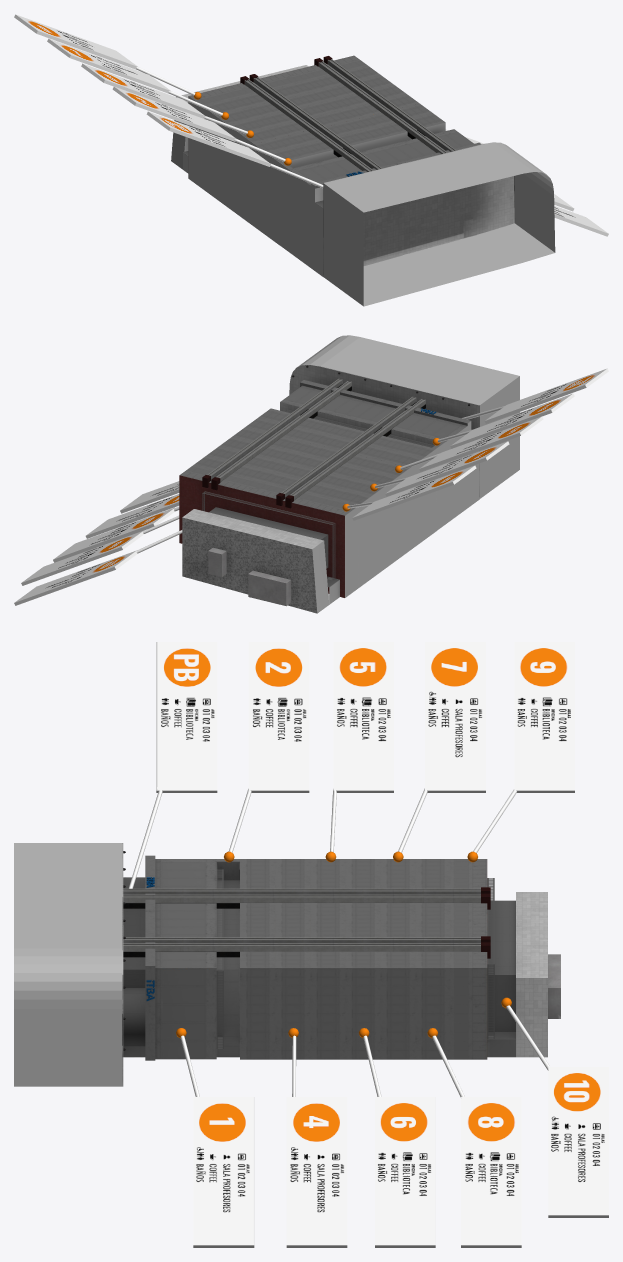
3 renders of one model, top to bottom at view 1: azimuth 30°, elevation 25°; view 2: azimuth 150°, elevation 25°; view 3: azimuth 270°, elevation 25°, orthographic. The views are drawn at different scales.
Parts seen in each view (by area): view 1: Edificio_low_Edificio_0, Sphere002, Sphere004, Sphere010, Sphere008, Sphere006, Sphere011; view 2: Edificio_low_Edificio_0, Sphere006, Sphere001, Sphere004, Sphere008, Sphere003, Sphere010, Sphere002, Sphere005, Sphere007, Sphere011; view 3: Edificio_low_Edificio_0, Sphere008, Sphere010, Sphere011, Sphere007, Sphere001, Sphere002, Sphere004, Sphere003, Sphere005, Sphere006.
Part boxes in pixels (box(x1,y1,x2,y2)): Edificio_low_Edificio_0: box(171, 55, 555, 306); Sphere002: box(14, 14, 201, 99); Sphere004: box(47, 38, 228, 119); Sphere010: box(112, 86, 291, 165); Sphere008: box(146, 111, 323, 188); Sphere006: box(81, 63, 253, 137); Sphere011: box(554, 206, 608, 236); Edificio_low_Edificio_0: box(179, 335, 519, 613); Sphere006: box(395, 416, 543, 472); Sphere001: box(14, 530, 182, 605); Sphere004: box(370, 441, 509, 496); Sphere008: box(462, 368, 608, 423); Sphere003: box(21, 515, 179, 585); Sphere010: box(432, 393, 574, 448); Sphere002: box(342, 465, 476, 520); Sphere005: box(53, 506, 179, 562); Sphere007: box(85, 494, 179, 538); Sphere011: box(120, 481, 179, 513); Edificio_low_Edificio_0: box(14, 843, 560, 1086); Sphere008: box(128, 642, 217, 888); Sphere010: box(224, 642, 309, 862); Sphere011: box(176, 1028, 254, 1247); Sphere007: box(286, 1028, 347, 1247); Sphere001: box(501, 997, 608, 1217); Sphere002: box(467, 642, 574, 862); Sphere004: box(393, 642, 485, 862); Sphere003: box(427, 1028, 521, 1247); Sphere005: box(359, 1028, 435, 1247); Sphere006: box(325, 642, 393, 862).
Bounding box in the file's own units: 2.5 × 1.2 × 2.1.
2 materials, 2 textured.
